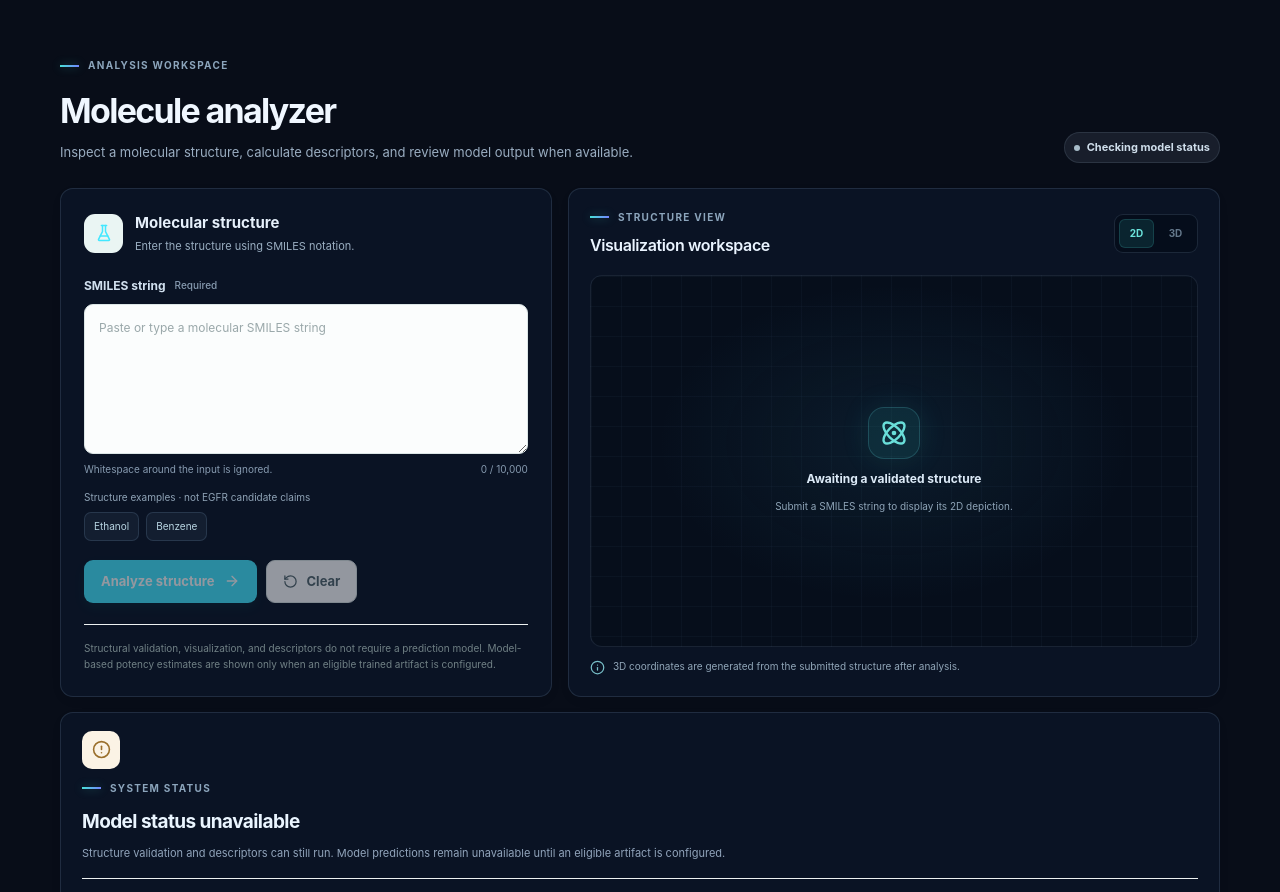
Test case: AnalyzerPage › disables submit for empty input and shows service errors
The width and height of the screenshot is (1280, 892).
expect the button "Analyze structure" is disabled: met, box [84,560,256,603]
Step 1. Type "CCO" into the text box labelled "SMILES string Required" → (306,379), box [84,304,528,454]
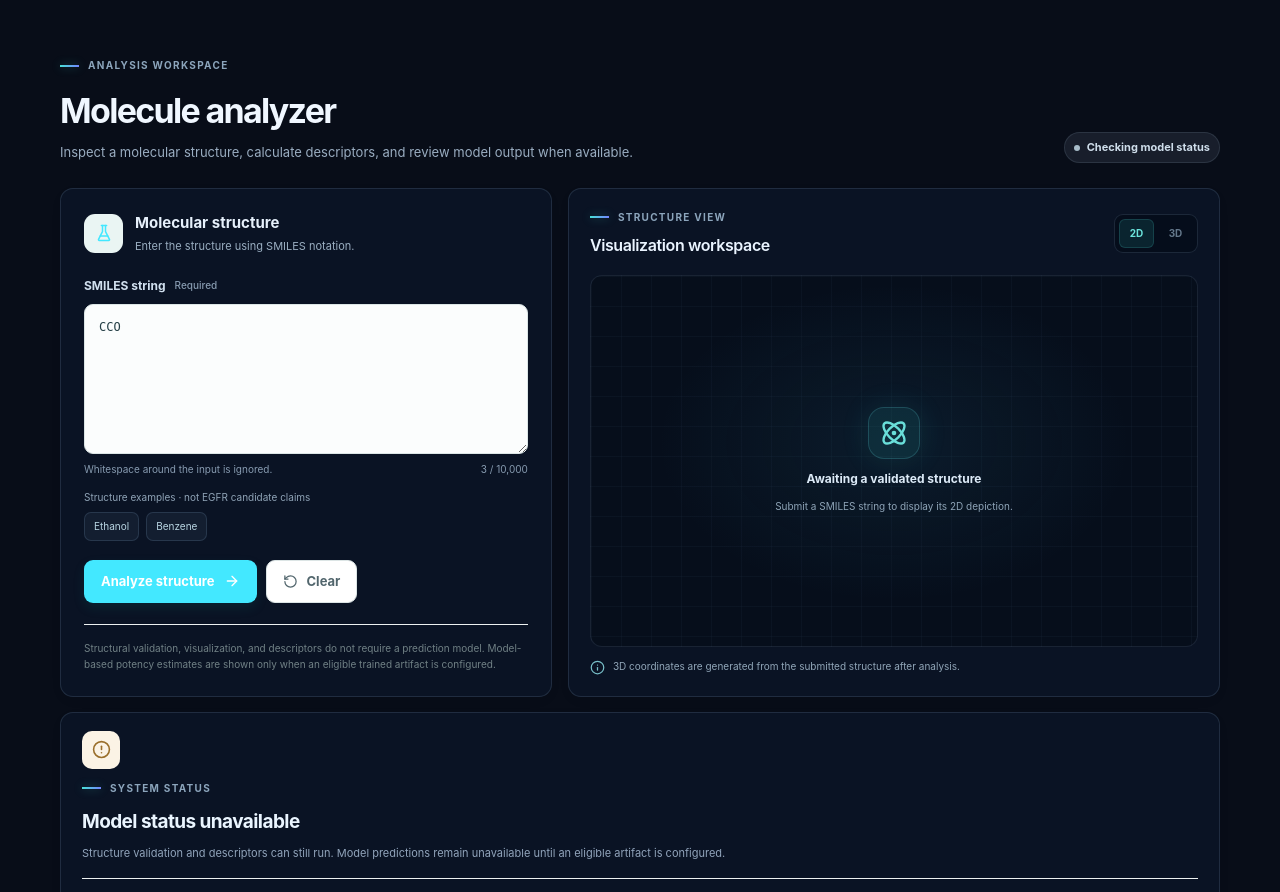
expect the button "Analyze structure" is enabled: met
Step 2. Click the button "Analyze structure" → (170,581), box [84,560,256,603]
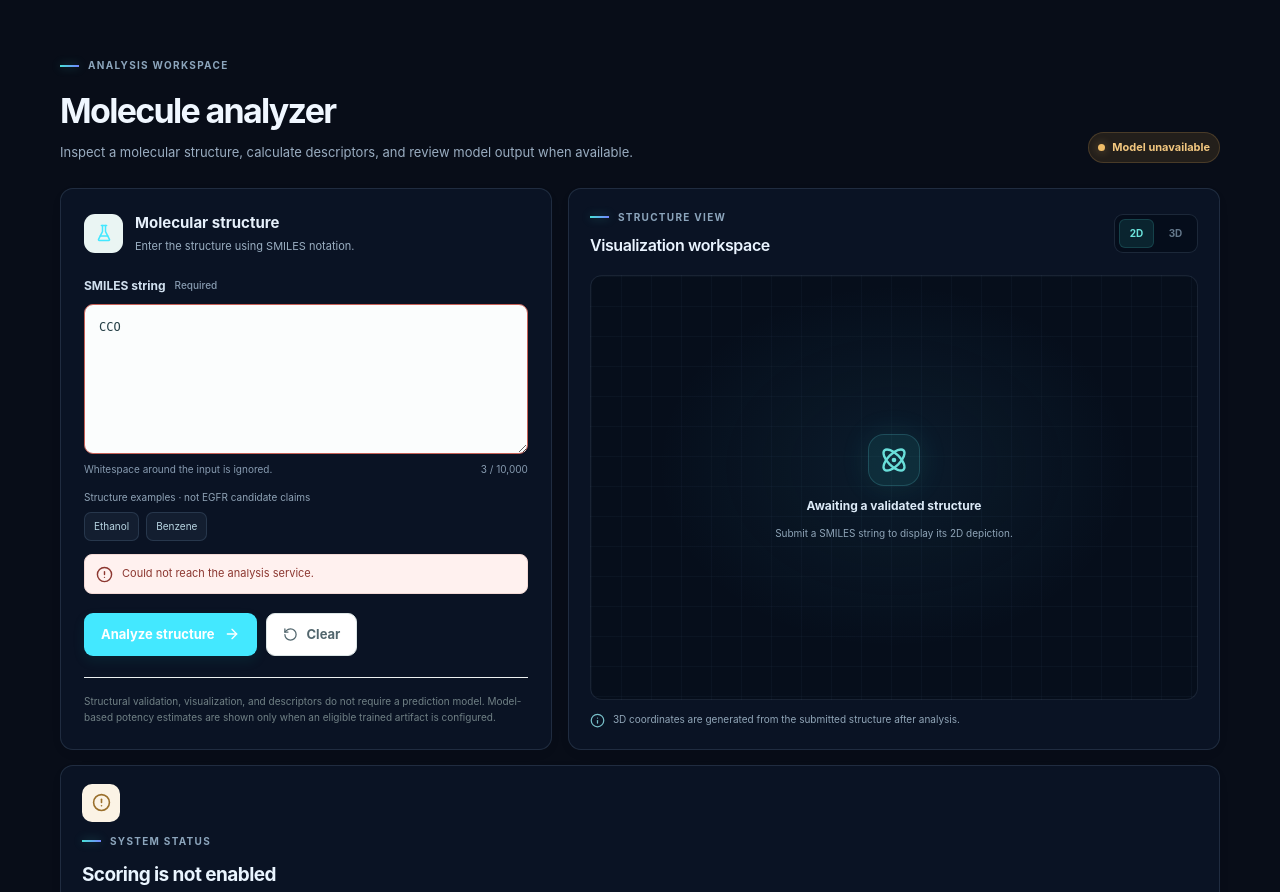
expect the message reads "Could not reach the analysis service.": met, box [122,566,314,580]
